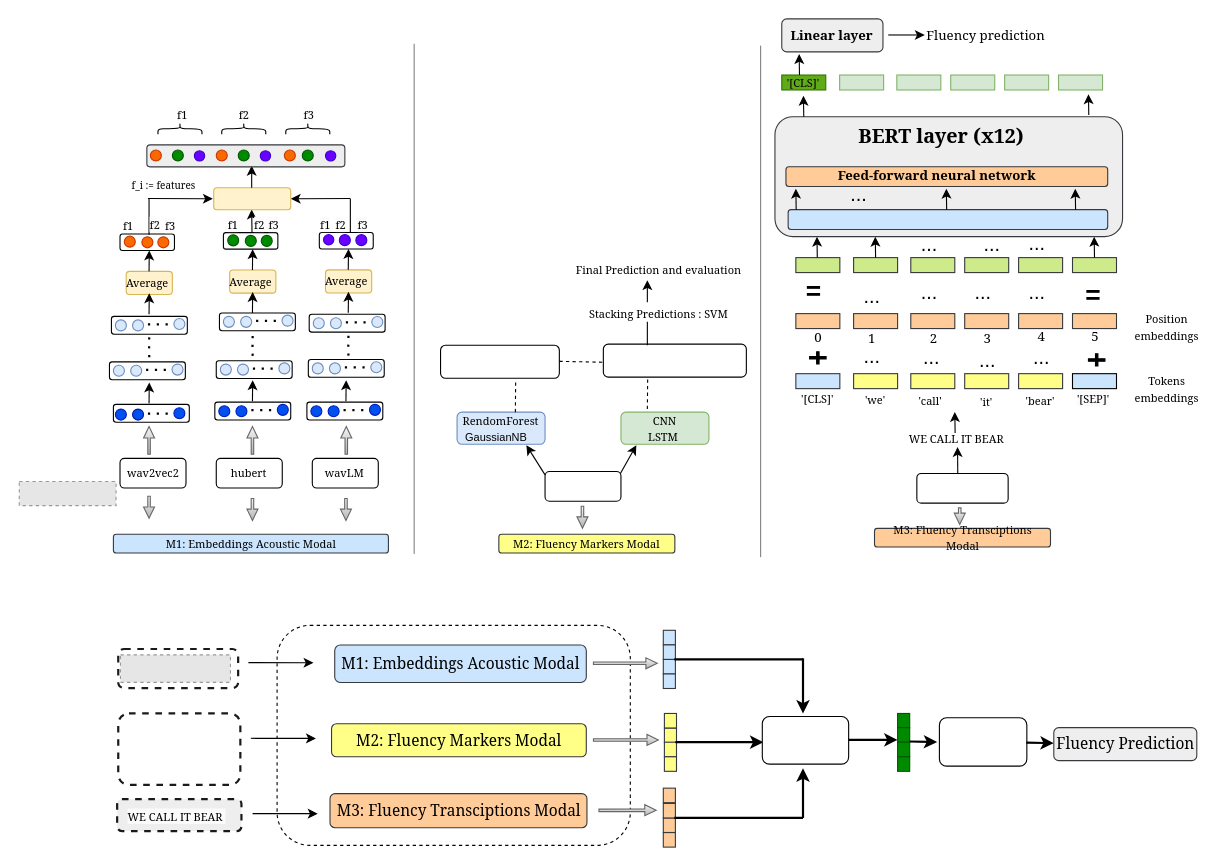
Some shapes in this 1225 by 867 pixel diagram are drawn without their labels. Grey dashed boxes stand in for pictures. Each missing label, with the centre of its shape:
Base model's predictions: [499,361]
BILSTM: [982,741]
Combined model's predictions: [674,360]
Contatenation: [252,198]
Fusion Network: [805,739]
Load Dataset: [582,485]
Self-attention: [947,219]
Speech rate Lexical diversity Lexical density Repetitions: [179,749]
Transcriptions: [962,487]
